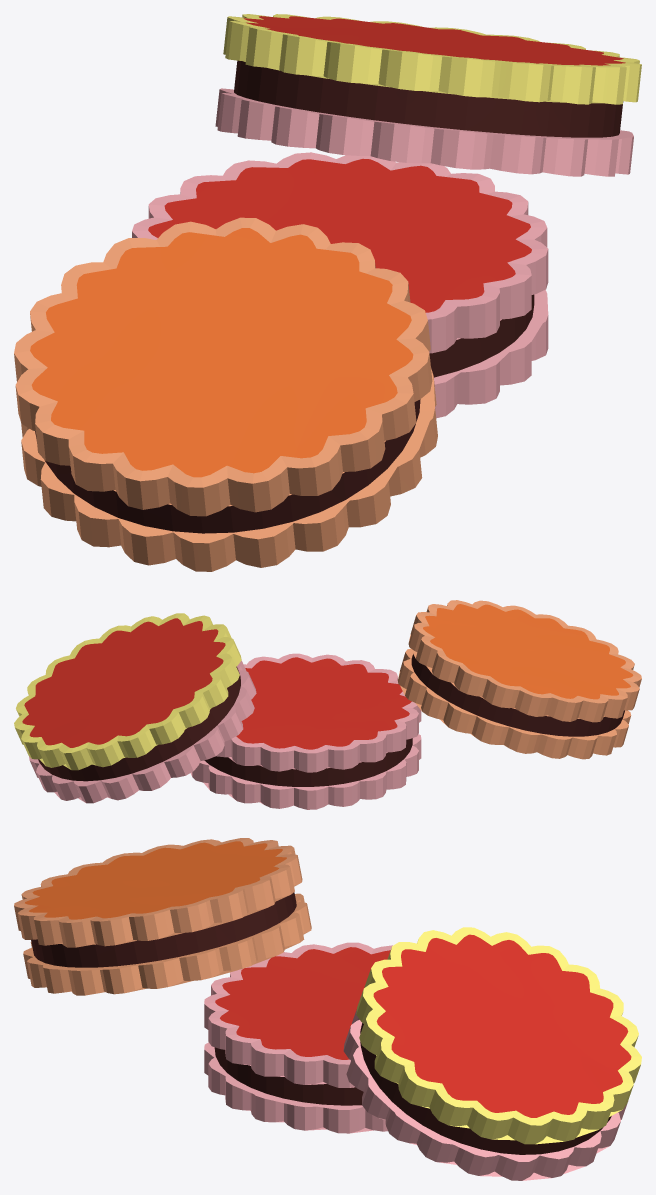
File: Curved Biscuits.fbx
The picture shows the model from 3 angles, top to bottom: view 1: azimuth 30°, elevation 25°; view 2: azimuth 150°, elevation 25°; view 3: azimuth 270°, elevation 25°; orthographic projection. The views are drawn at different scales.
Parts seen in each view (by area): view 1: Circle.072, Circle.064, Circle.069, Circle.065, Circle.070, Circle.066, Circle.067, Circle.063, Circle.068, Circle.071, Circle.061, Circle.062; view 2: Circle.068, Circle.072, Circle.064, Circle.065, Circle.069, Circle.063, Circle.070, Circle.066, Circle.061, Circle.071, Circle.067, Circle.062; view 3: Circle.068, Circle.065, Circle.064, Circle.072, Circle.069, Circle.070, Circle.066, Circle.063, Circle.071, Circle.061, Circle.067, Circle.062.
Boxes of the visible parts, x1,y1,x2,y2 form: Circle.072: [30, 228, 413, 477]; Circle.064: [148, 158, 531, 312]; Circle.069: [14, 217, 432, 516]; Circle.065: [223, 14, 641, 104]; Circle.070: [21, 368, 437, 571]; Circle.066: [215, 88, 633, 176]; Circle.067: [234, 60, 623, 137]; Circle.063: [132, 152, 548, 353]; Circle.068: [243, 16, 625, 65]; Circle.071: [35, 399, 420, 533]; Circle.061: [434, 290, 548, 418]; Circle.062: [429, 294, 534, 377]; Circle.068: [22, 618, 225, 747]; Circle.072: [423, 604, 633, 699]; Circle.064: [236, 657, 411, 749]; Circle.065: [14, 613, 241, 770]; Circle.069: [408, 600, 641, 722]; Circle.063: [216, 653, 421, 772]; Circle.070: [397, 648, 631, 759]; Circle.066: [29, 660, 256, 803]; Circle.061: [190, 734, 421, 809]; Circle.071: [411, 654, 624, 736]; Circle.067: [38, 666, 240, 781]; Circle.062: [204, 738, 412, 786]; Circle.068: [373, 934, 631, 1117]; Circle.065: [356, 927, 641, 1144]; Circle.064: [215, 947, 390, 1059]; Circle.072: [25, 841, 286, 919]; Circle.069: [14, 838, 302, 947]; Circle.070: [23, 893, 311, 995]; Circle.066: [343, 1009, 628, 1180]; Circle.063: [204, 942, 392, 1087]; Circle.071: [31, 892, 296, 967]; Circle.061: [204, 1042, 387, 1133]; Circle.067: [360, 1023, 611, 1154]; Circle.062: [214, 1047, 363, 1105].
Size of the model in its own units: 1566 by 435 by 1513.
1 material, 1 textured.
